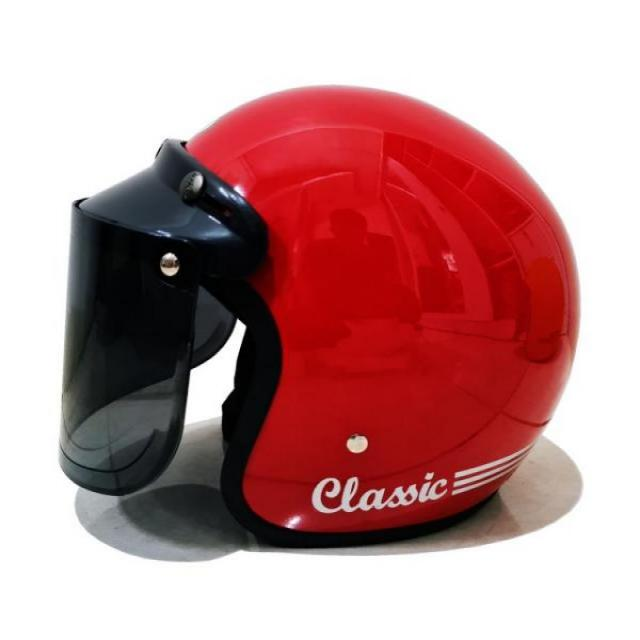Helmet: (55, 84, 574, 569)
